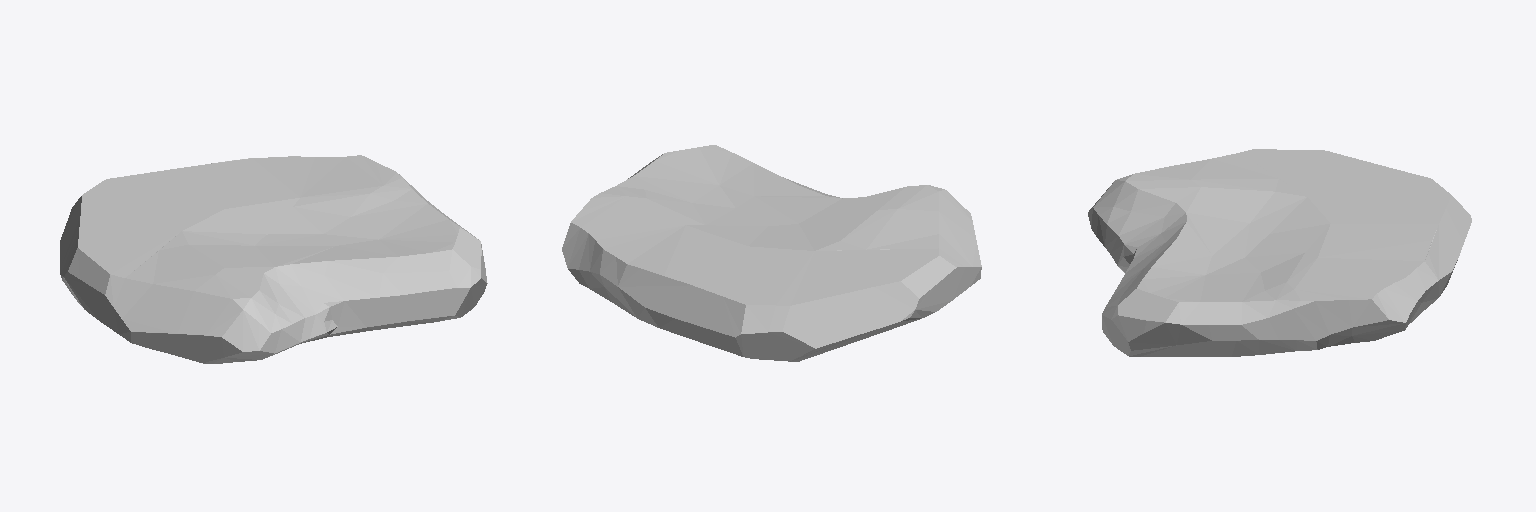
The model's file is FlatRock.obj.
3 views of the same model, side by side, from view 1: azimuth 30°, elevation 25°; view 2: azimuth 150°, elevation 25°; view 3: azimuth 270°, elevation 25° (orthographic).
Parts seen in each view (by area): view 1: Rock_11; view 2: Rock_11; view 3: Rock_11.
Boxes of the visible parts, <box> form: Rock_11: <box>60,155,487,363</box>; Rock_11: <box>562,145,981,361</box>; Rock_11: <box>1088,149,1471,356</box>.
Bounding box in the file's own units: 4.52 × 0.8889 × 4.44.